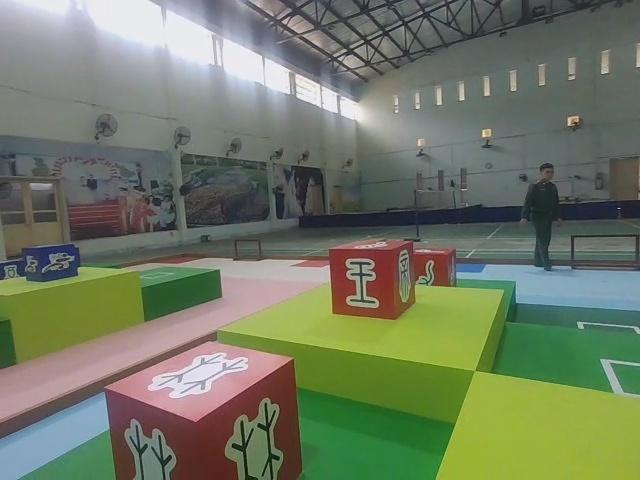R2 Fake: (326, 236, 418, 323)
R2 Real: (102, 338, 305, 480), (413, 245, 458, 291)
